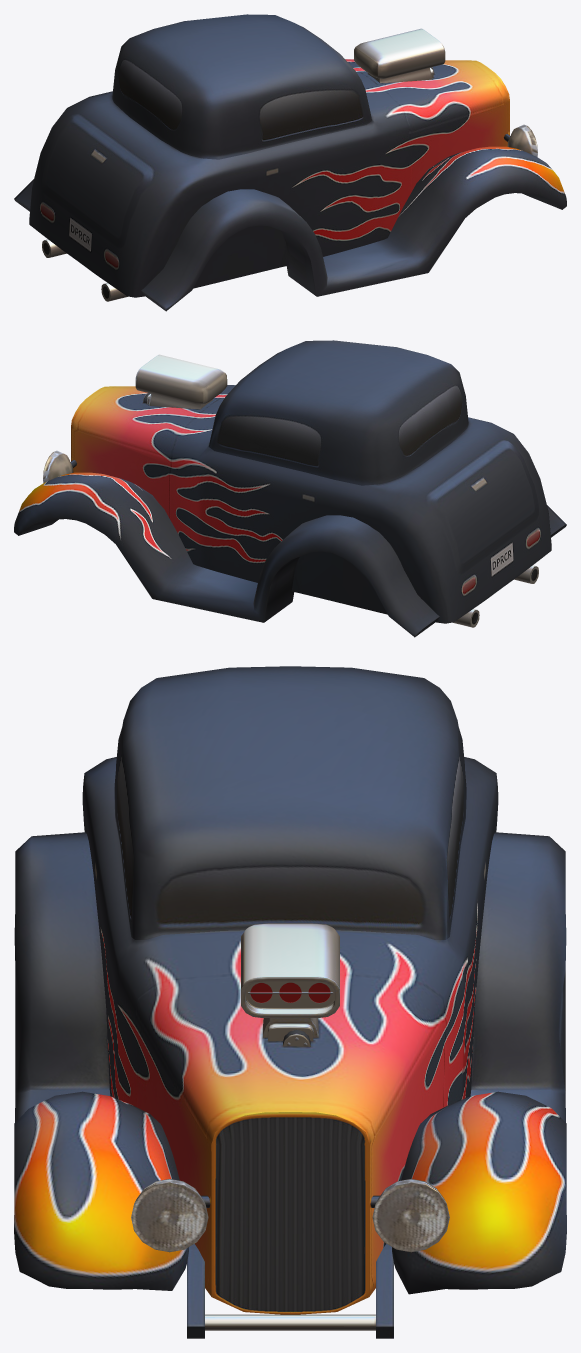
File: f1_hotrod_02.dae
3 renders of one model, top to bottom at view 1: azimuth 30°, elevation 25°; view 2: azimuth 150°, elevation 25°; view 3: azimuth 270°, elevation 25°, orthographic. The views are drawn at different scales.
Parts seen in each view (by area): view 1: hotrod_body; view 2: hotrod_body; view 3: hotrod_body.
Part boxes in pixels (x1,y1,x2,y2): hotrod_body: (14, 14, 566, 311); hotrod_body: (14, 340, 566, 637); hotrod_body: (14, 666, 566, 1338).
Size of the model in its own units: 0.2866 by 0.1707 by 0.1279.
1 material, 1 textured.
